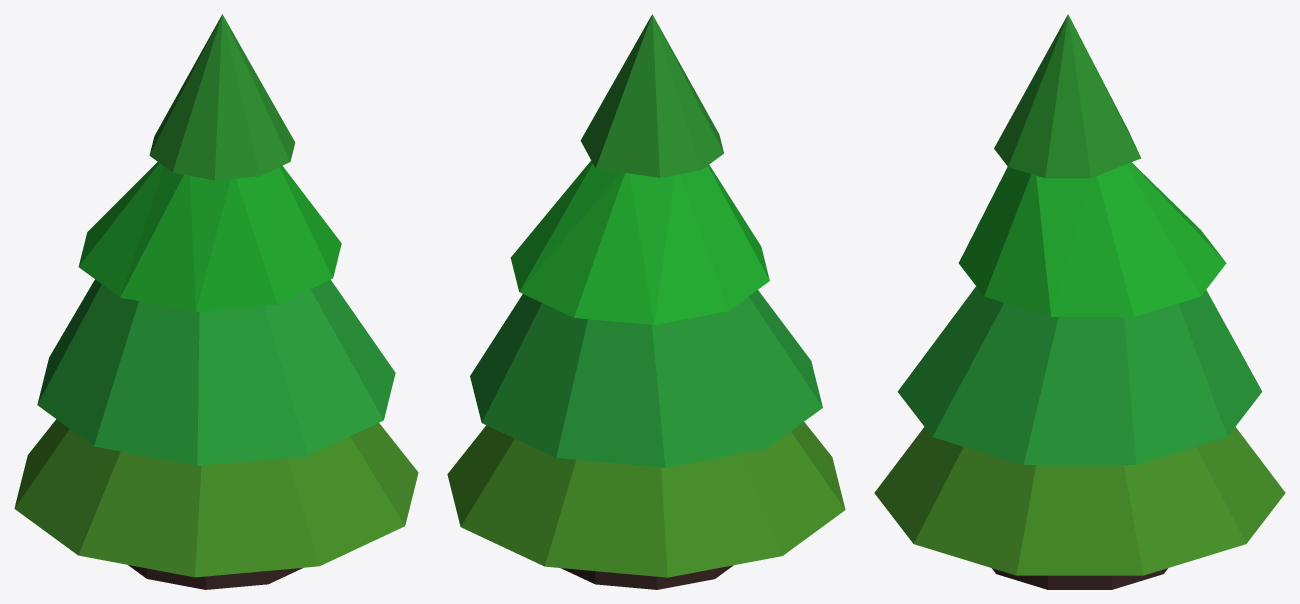
File: Tannenbaum01.fbx
3 renders of one model, left to right at view 1: azimuth 30°, elevation 25°; view 2: azimuth 150°, elevation 25°; view 3: azimuth 270°, elevation 25°, orthographic.
Visible parts, largest first — view 1: Cone.002; view 2: Cone.002; view 3: Cone.002.
Boxes of the visible parts, bbox=[...] form: Cone.002: bbox=[14, 14, 418, 589]; Cone.002: bbox=[447, 14, 845, 589]; Cone.002: bbox=[874, 14, 1285, 589].
Bounding box in the file's own units: 574 × 865 × 604.
